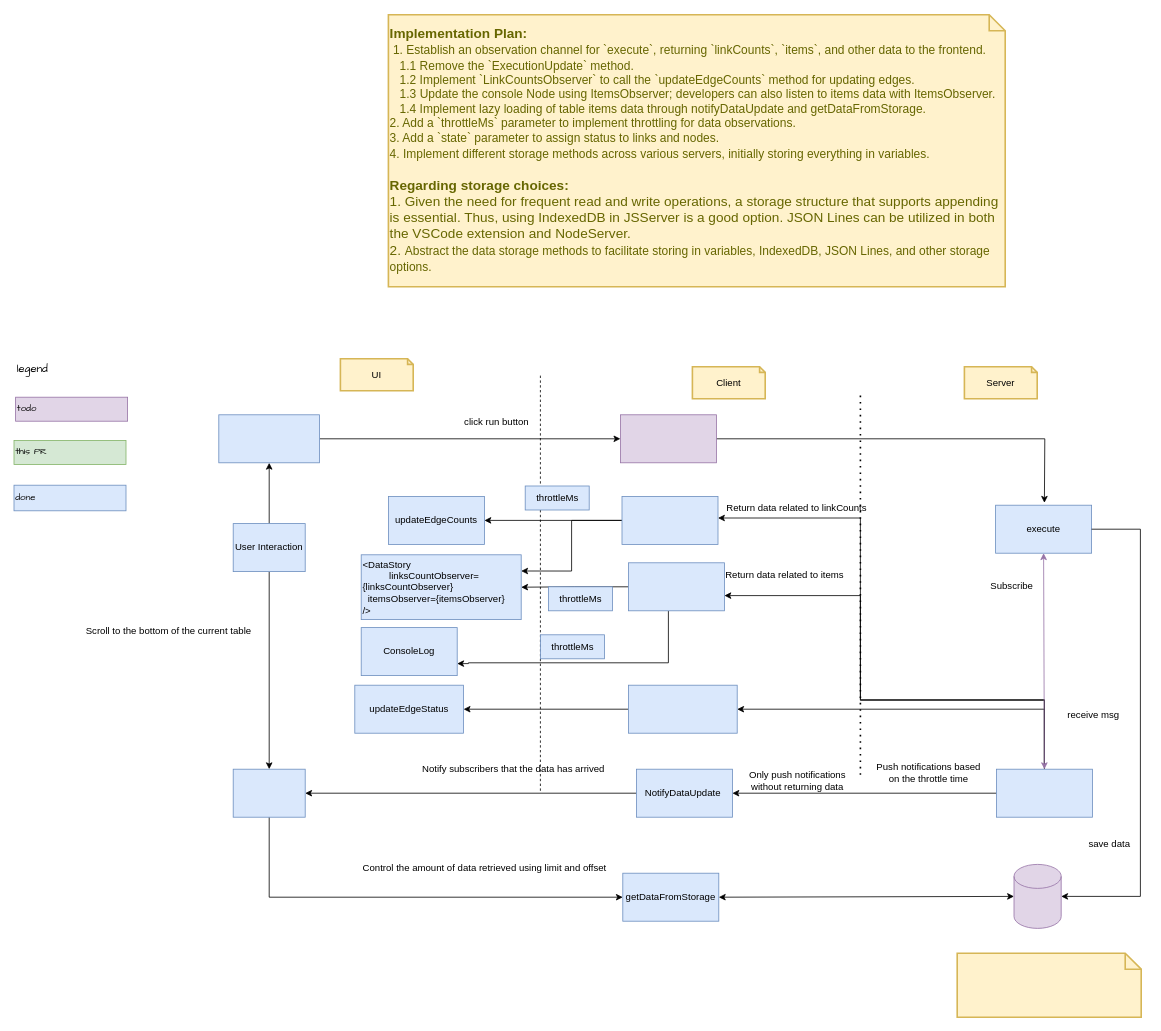
This 1161x1031 diagram has some shape labels left out. Each missing label, with the centre of its shape:
"1. JsServer: IndexedDB 2. Vscode: Json Lines 3. socketServer/Node: Json lines" goes at point 1049,985.
"DataStoryControls" goes at point 269,438.
"ItemsObserver" goes at point 676,586.
"LinkCountsObserver" goes at point 669,520.
"nodeStatusObserver" goes at point 682,708.
"Observable" goes at point 1044,792.
"run" goes at point 668,438.
"Storage" goes at point 1037,896.
"Table" goes at point 268,792.
